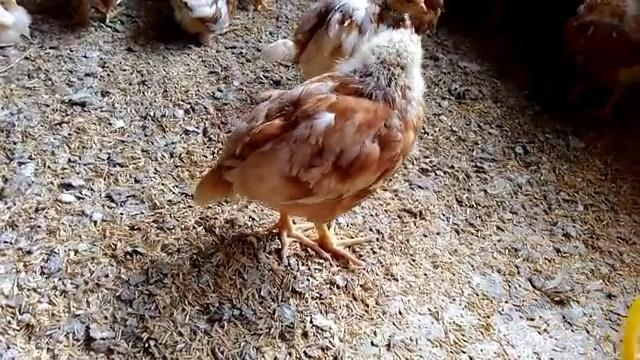AbNormal: (188, 28, 460, 272)
